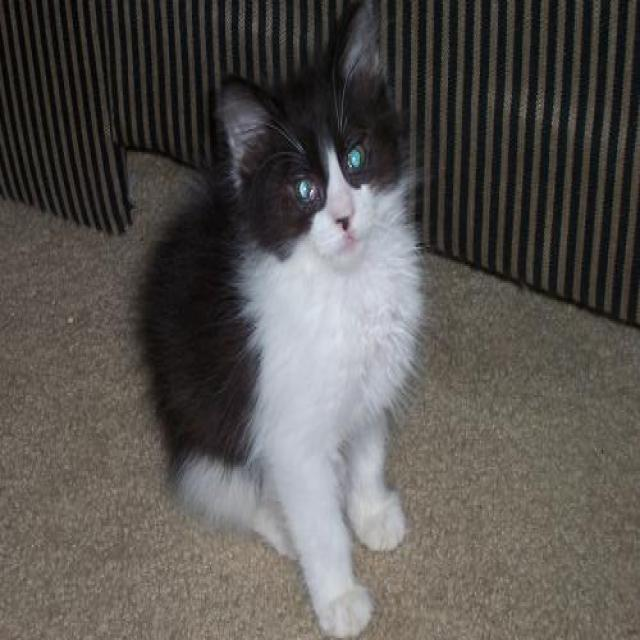Cats: (132, 0, 427, 638)
